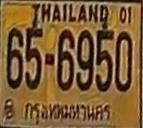0: (116, 31, 132, 93)
5: (95, 30, 115, 92), (26, 27, 42, 89)
6: (57, 29, 75, 92), (6, 28, 23, 88)
9: (75, 31, 93, 90)
BKK: (23, 98, 112, 126)
